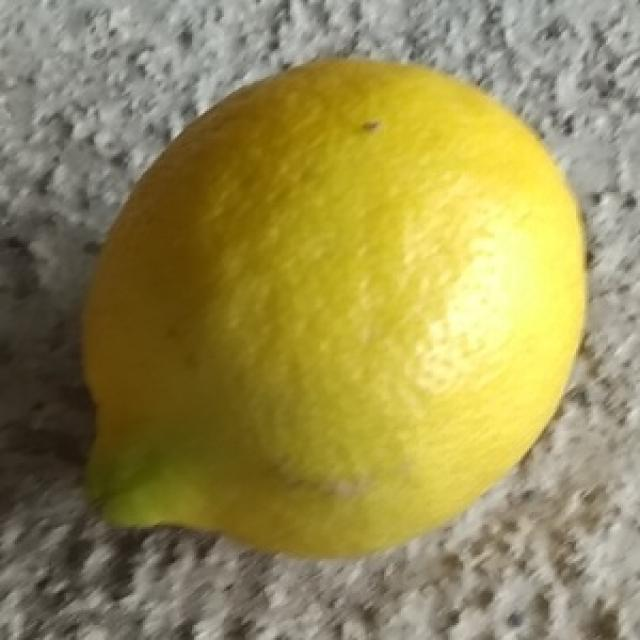Lemon: (77, 51, 590, 562)
